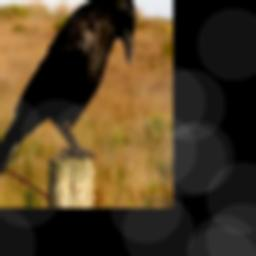Crow: (0, 0, 136, 182)
